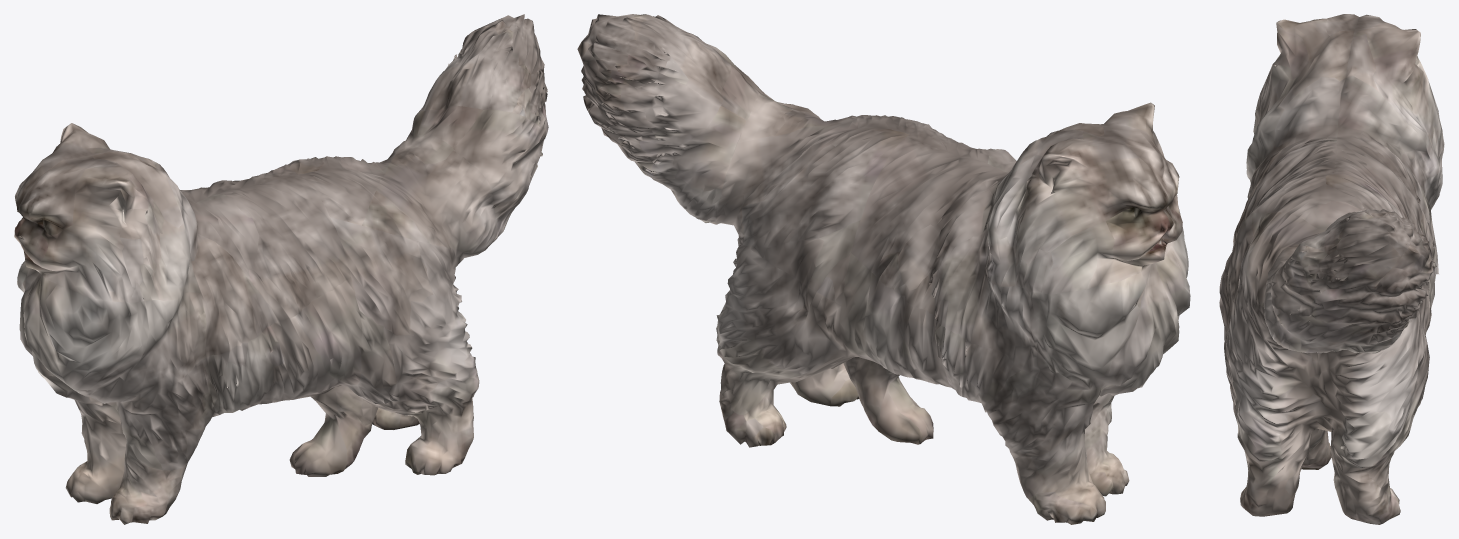
Rendered from CLIVECAT-lo.glb.
3 renders of one model, left to right at view 1: azimuth 30°, elevation 25°; view 2: azimuth 150°, elevation 25°; view 3: azimuth 270°, elevation 25°, orthographic. The views are drawn at different scales.
Parts seen in each view (by area): view 1: tripo_node_ead7db18-a92b-409c-ba5f-770d9468b62d; view 2: tripo_node_ead7db18-a92b-409c-ba5f-770d9468b62d; view 3: tripo_node_ead7db18-a92b-409c-ba5f-770d9468b62d.
Boxes of the visible parts, left/top/right/bottom form: tripo_node_ead7db18-a92b-409c-ba5f-770d9468b62d: left=14, top=14, right=548, bottom=524; tripo_node_ead7db18-a92b-409c-ba5f-770d9468b62d: left=577, top=14, right=1190, bottom=524; tripo_node_ead7db18-a92b-409c-ba5f-770d9468b62d: left=1219, top=14, right=1444, bottom=524.
Size of the model in its own units: 1.51 by 0.997 by 0.5692.
1 material, 1 textured.
